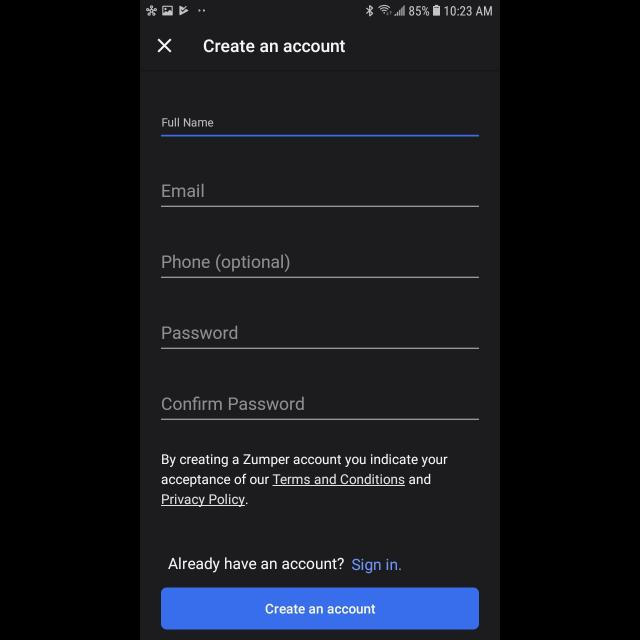icon: (158, 38, 172, 54)
input: (161, 396, 479, 420), (161, 326, 479, 350), (161, 254, 479, 278), (161, 184, 479, 208), (161, 118, 479, 138)
text: (160, 454, 448, 506), (168, 556, 402, 574), (162, 396, 304, 412), (164, 254, 290, 272), (203, 40, 344, 52), (162, 326, 238, 340), (163, 184, 205, 198), (162, 117, 214, 127)
textbutton: (161, 588, 479, 630)
uppertaskbar: (140, 1, 500, 17)
